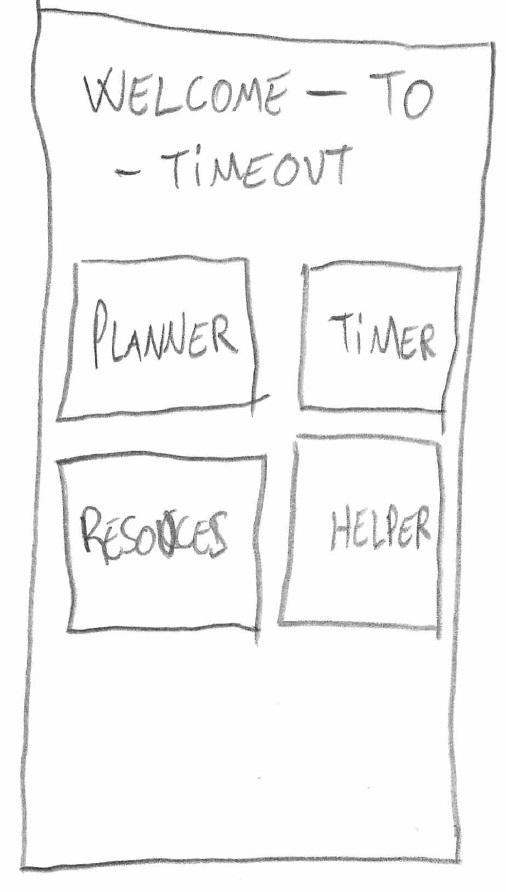Button: (57, 451, 265, 640), (55, 257, 265, 421), (276, 433, 445, 629), (296, 260, 463, 413)
Label: (81, 67, 437, 191)
Screen: (19, 9, 495, 871)
